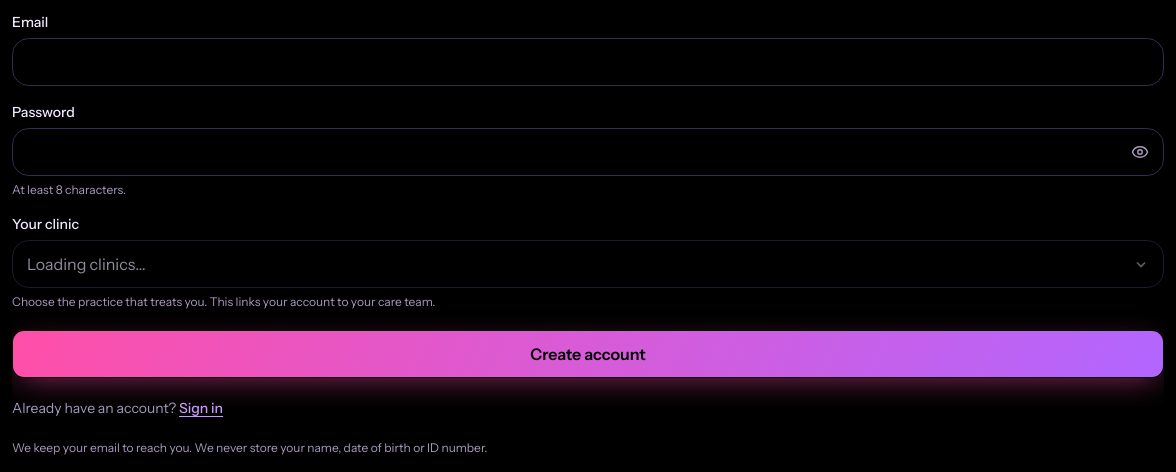
SignupForm › shows 'check your email' when confirmation is on
This screenshot has width=1176, height=472.
Step 1. Type "new@example.test" into the field labelled "Email" → {"x": 588, "y": 62}, box [12, 38, 1164, 86]
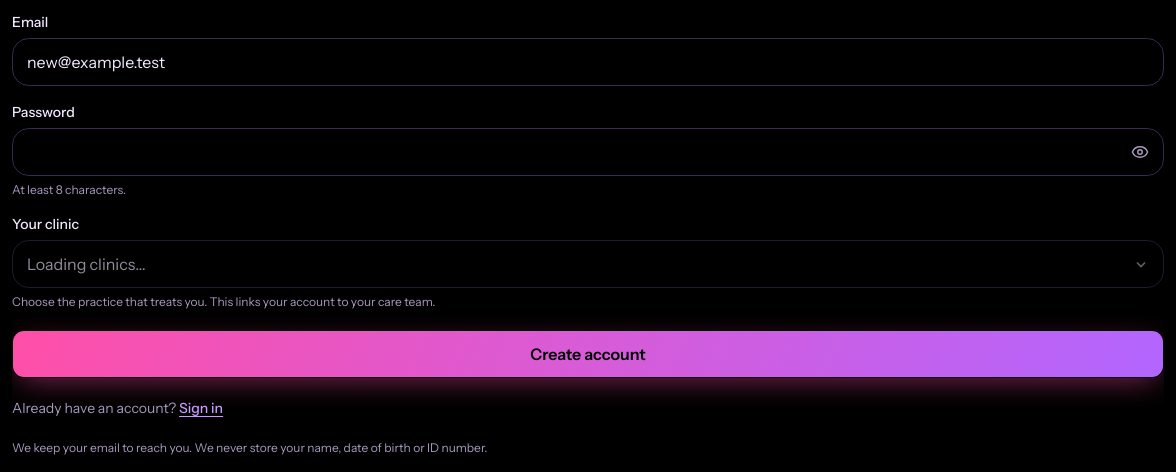
Step 2. Type "password123" into the password field labelled "Password" → {"x": 588, "y": 152}, box [12, 128, 1164, 176]
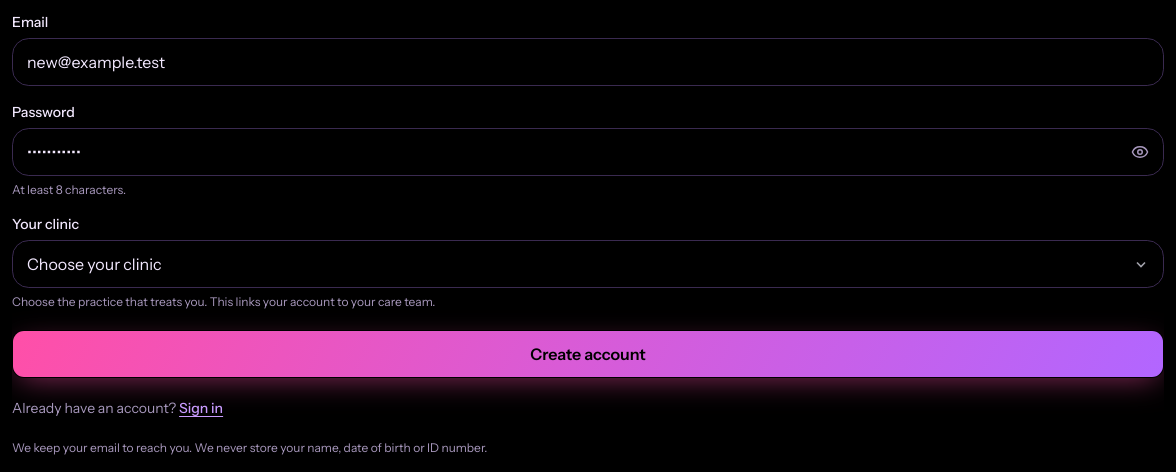
Step 3. Select "Peachtree Dermatology — Dr. Rivera" in the dropdown labelled "Your clinic" → {"x": 588, "y": 264}, box [12, 240, 1164, 288]
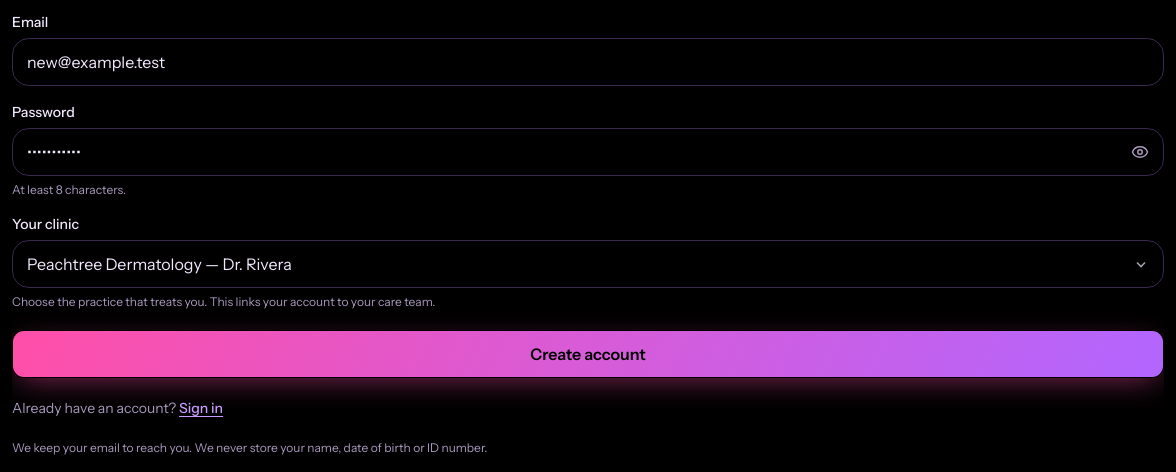
Step 4. Click the button "Create account" → {"x": 588, "y": 354}, box [12, 330, 1164, 378]
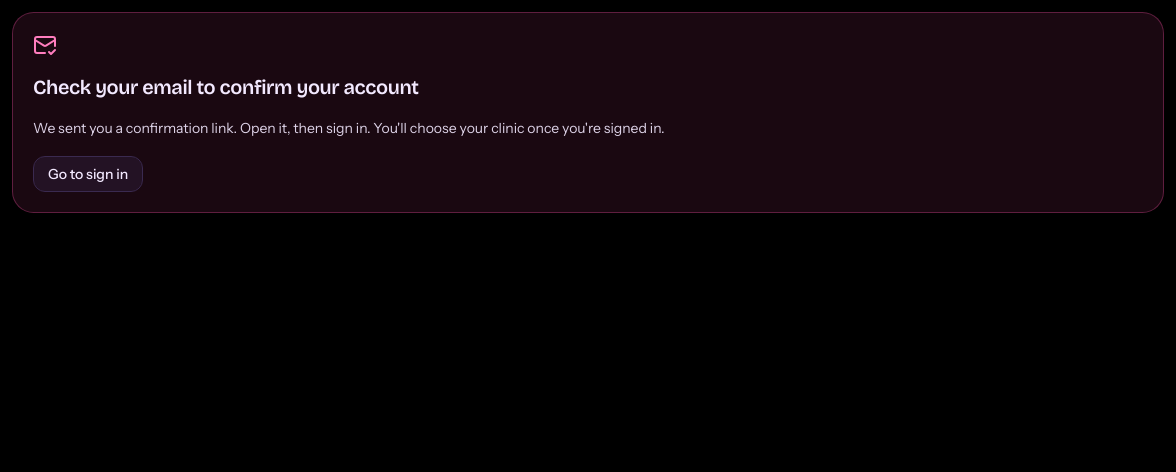
Expected: the message does not show "new@example.test", [12, 12, 1164, 213]
Expected: the heading "Check your email to confirm your account" is shown, [33, 75, 419, 99]
